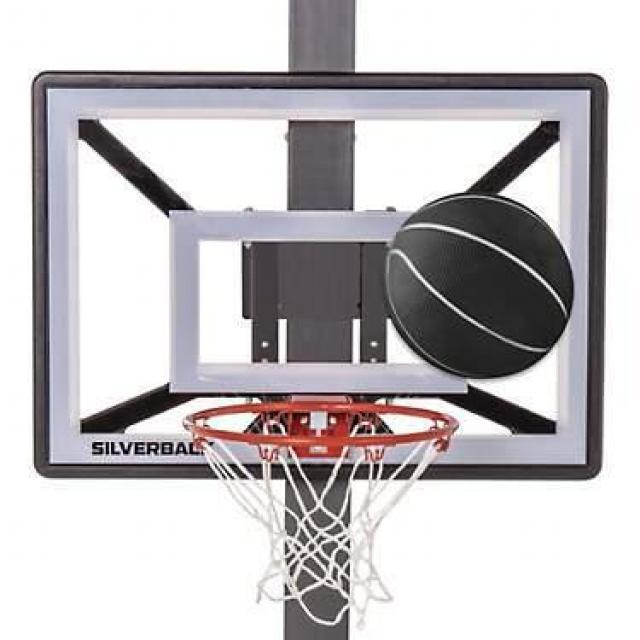Basketball: (383, 192, 572, 380)
hoop: (186, 403, 460, 627)
